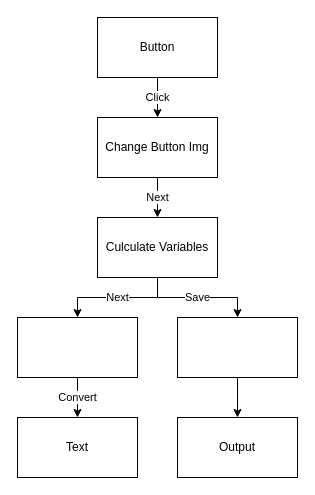
Some shapes in this 315 by 495 pixel diagram are drawn without their labels. The centre of each missing label's shape, as x and y in pixels:
Change Value: (77,347)
File Write: (237,347)
